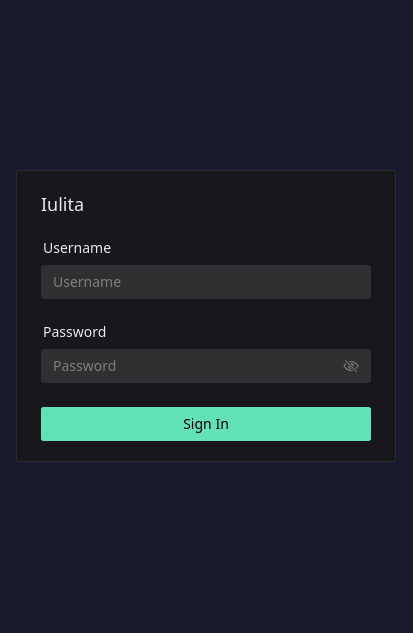
Test: Login.vue › shows must_change_password form when required
This screenshot has width=413, height=633.
Click the button "Sign In" at (206, 424), box [41,407,371,441]
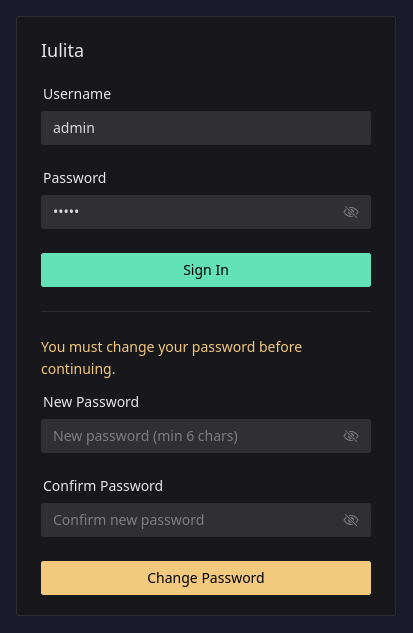
Expected: the text "You must change your password" is shown, [41,337,302,378]
Expected: the text "Change Password" is shown, [147,571,265,585]
